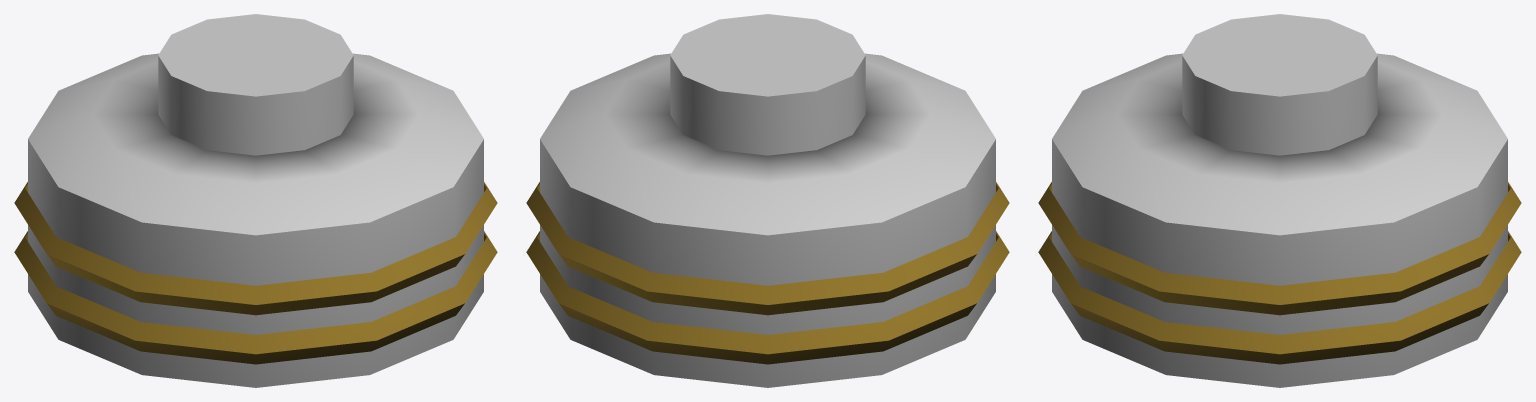
The model's file is filtro.glb.
The picture shows the model from 3 angles, left to right: view 1: azimuth 30°, elevation 25°; view 2: azimuth 150°, elevation 25°; view 3: azimuth 270°, elevation 25°; orthographic projection.
Visible parts, largest first — view 1: filtro; view 2: filtro; view 3: filtro.
Part boxes in pixels (<box>): filtro: <box>14,14,497,387</box>; filtro: <box>526,14,1009,387</box>; filtro: <box>1038,14,1521,387</box>.
Bounding box in the file's own units: 0.089 × 0.052 × 0.089.
